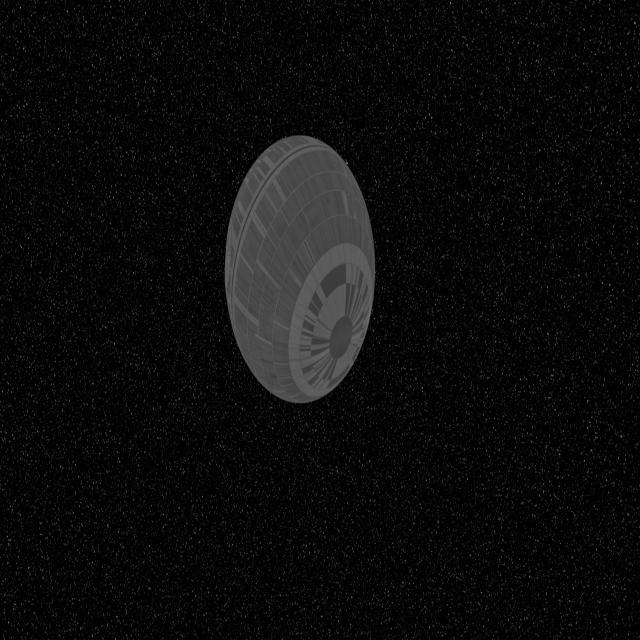death-stars: (224, 136, 376, 405)
